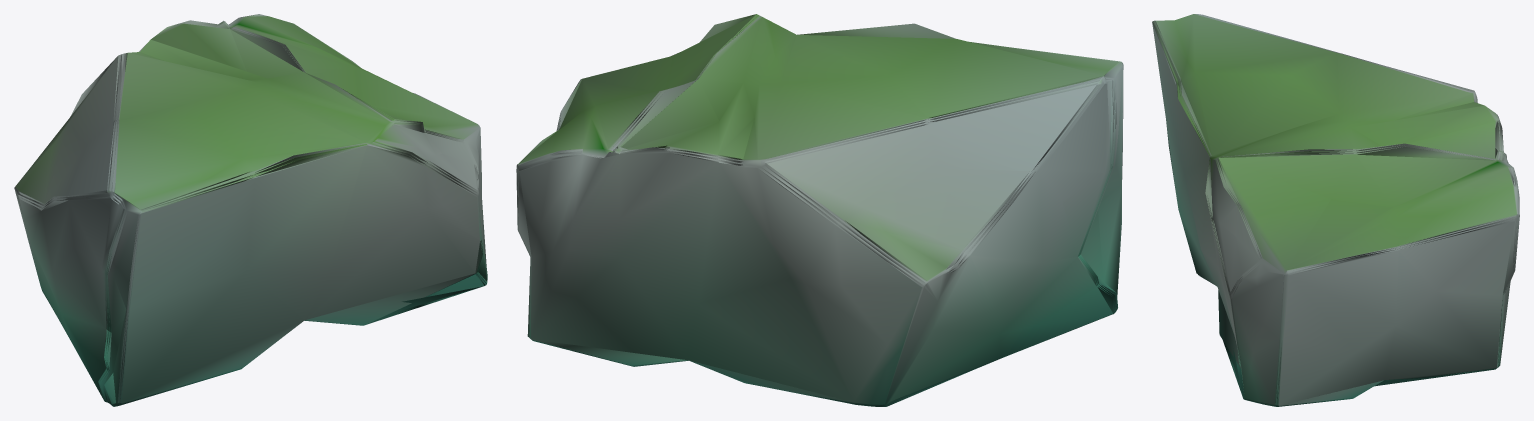
The model's file is grotto_rubble_b.glb.
3 views of the same model, side by side, from view 1: azimuth 30°, elevation 25°; view 2: azimuth 150°, elevation 25°; view 3: azimuth 270°, elevation 25° (orthographic). The views are drawn at different scales.
Visible parts, largest first — view 1: grotto_rubble_b; view 2: grotto_rubble_b; view 3: grotto_rubble_b.
Boxes of the visible parts, left/top/right/bottom form: grotto_rubble_b: left=14, top=14, right=487, bottom=406; grotto_rubble_b: left=516, top=14, right=1123, bottom=406; grotto_rubble_b: left=1152, top=14, right=1519, bottom=406.
Size of the model in its own units: 2.57 by 1.23 by 2.
